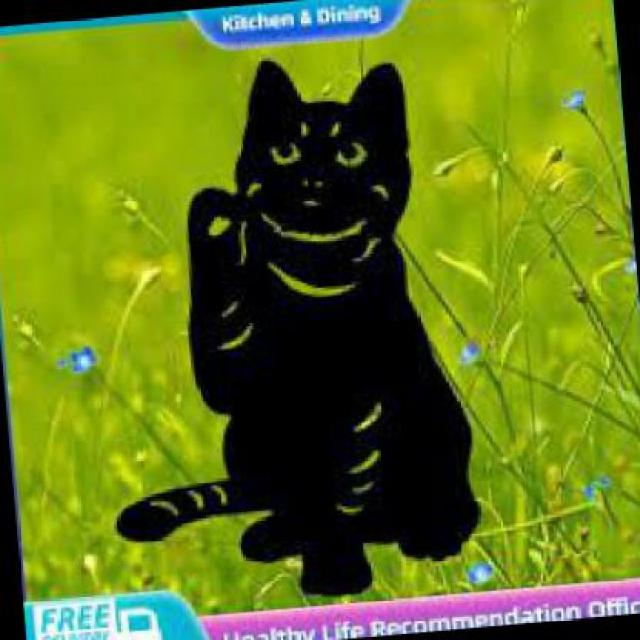animals: (62, 44, 496, 587)
